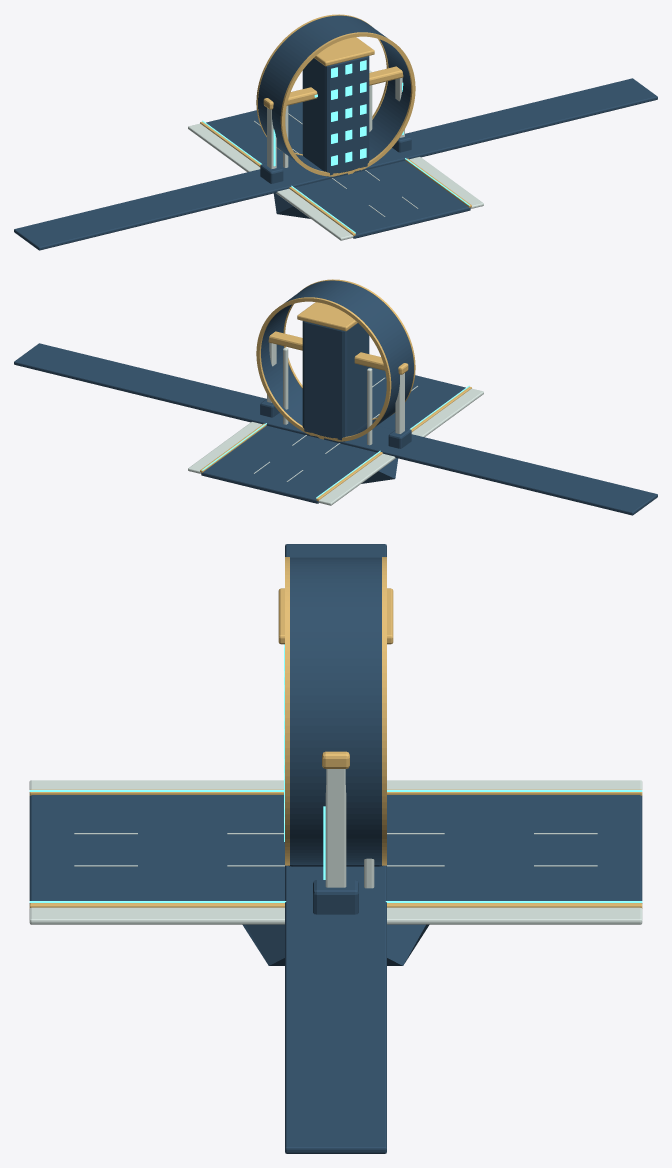
Rendered from rush-course.glb.
3 views of the same model, one above another, from view 1: azimuth 30°, elevation 25°; view 2: azimuth 150°, elevation 25°; view 3: azimuth 270°, elevation 25° (orthographic). The views are drawn at different scales.
Visible parts, largest first — view 1: LoopTrack, RoadTile, Tower, SkyArch, FloatingIsland; view 2: LoopTrack, RoadTile, Tower, SkyArch, FloatingIsland; view 3: RoadTile, LoopTrack, SkyArch, FloatingIsland, Tower.
Boxes of the visible parts, <box> form: LoopTrack: <box>14,14,657,250</box>; RoadTile: <box>188,102,483,240</box>; Tower: <box>302,37,374,176</box>; SkyArch: <box>260,66,411,183</box>; FloatingIsland: <box>273,193,310,218</box>; LoopTrack: <box>14,279,657,515</box>; RoadTile: <box>188,367,483,505</box>; Tower: <box>297,302,369,441</box>; SkyArch: <box>260,331,411,448</box>; FloatingIsland: <box>361,458,398,483</box>; RoadTile: <box>29,780,642,924</box>; LoopTrack: <box>285,544,386,1153</box>; SkyArch: <box>313,751,358,914</box>; FloatingIsland: <box>242,924,429,965</box>; Tower: <box>278,588,393,866</box>.
Size of the model in its own units: 56 by 16.24 by 24.
